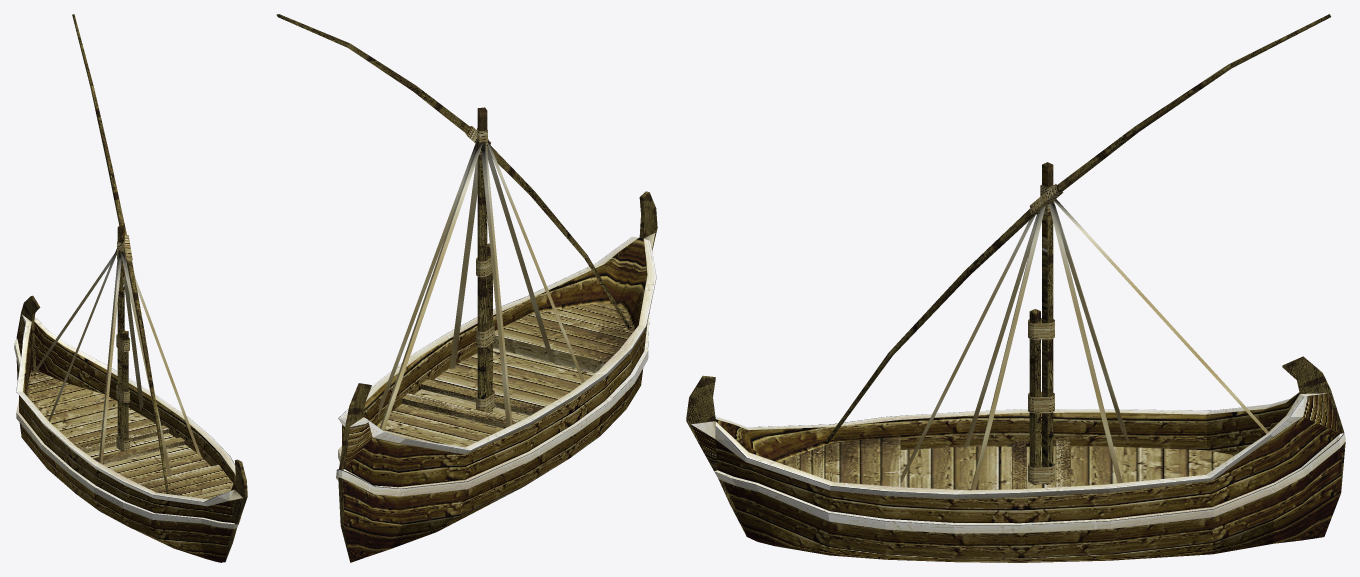
File: iber_boat_fishing.dae
3 renders of one model, left to right at view 1: azimuth 30°, elevation 25°; view 2: azimuth 150°, elevation 25°; view 3: azimuth 270°, elevation 25°, orthographic. The views are drawn at different scales.
Parts seen in each view (by area): view 1: Mesh; view 2: Mesh; view 3: Mesh.
Part boxes in pixels (<box>): Mesh: <box>14,14,247,562</box>; Mesh: <box>276,14,657,562</box>; Mesh: <box>686,14,1345,562</box>.
Size of the model in its own units: 5.23 by 17.31 by 16.55.
